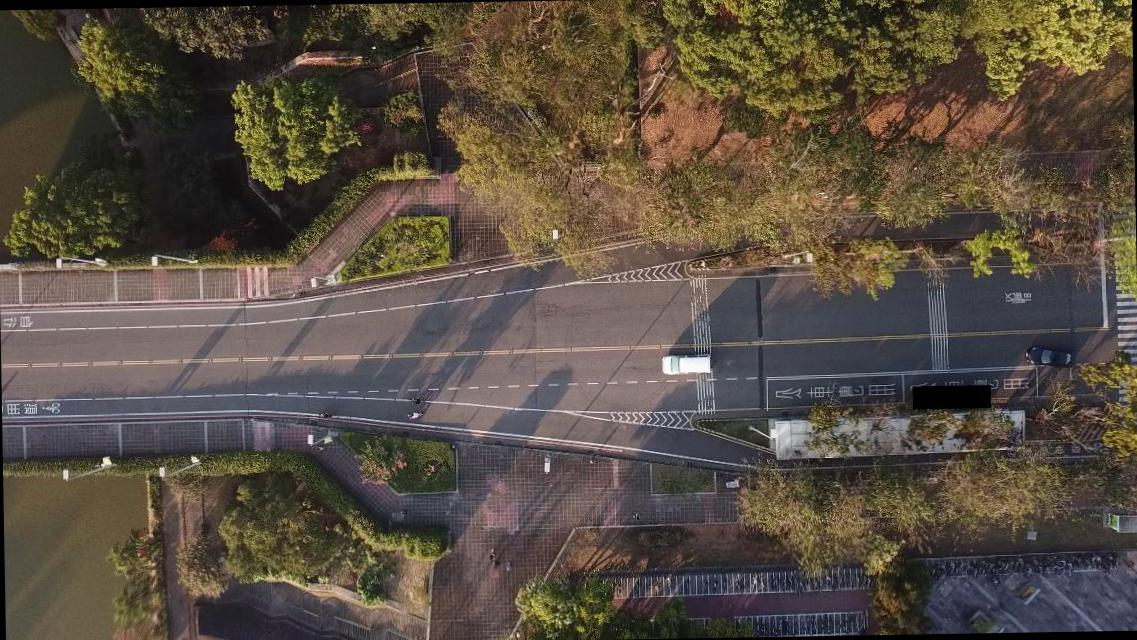vehicle: (661, 352, 711, 376), (1026, 344, 1072, 366)
